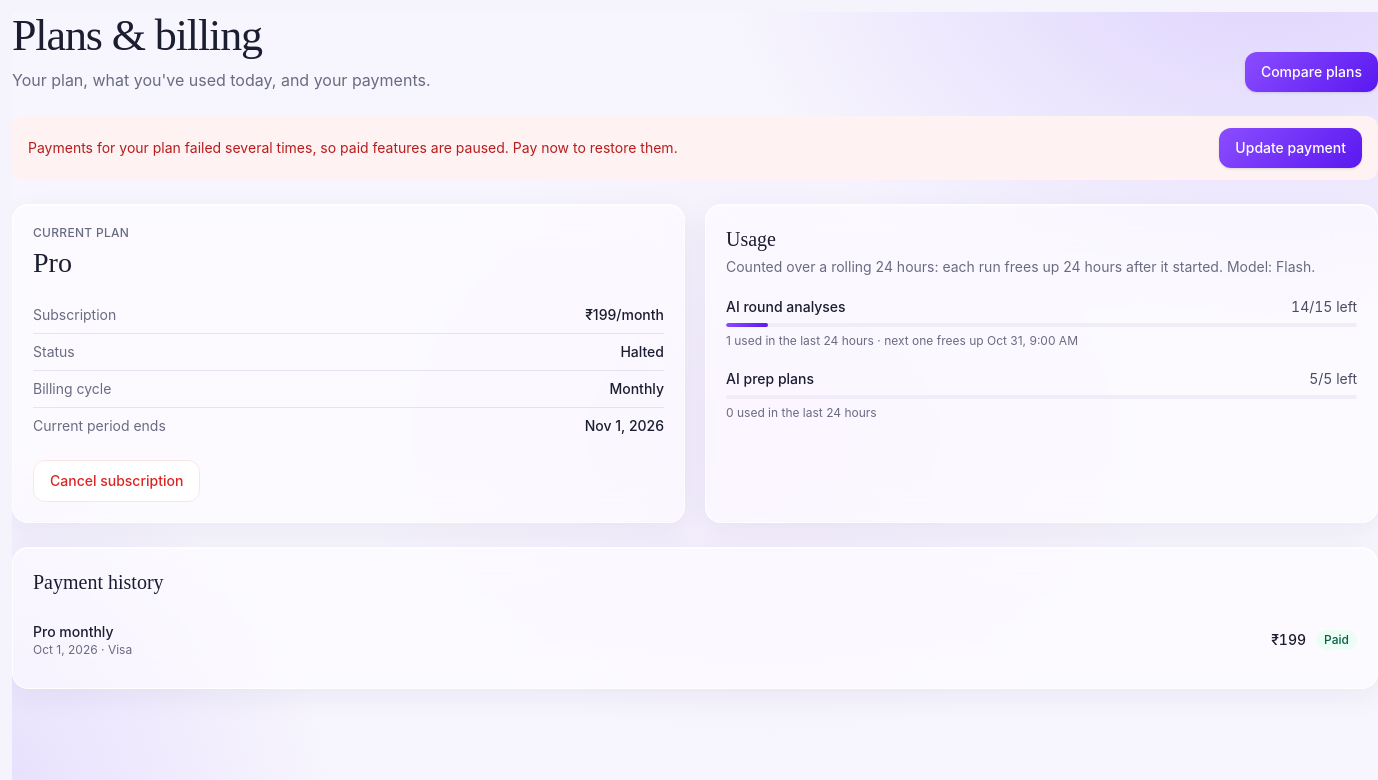
it: billing dashboard › offers a way to fix a failed payment
Expected: the message shows "paid features are paused", x1=28 y1=139 x2=678 y2=156
Click the button "Update payment": (1291, 148) x1=1219 y1=128 x2=1362 y2=168
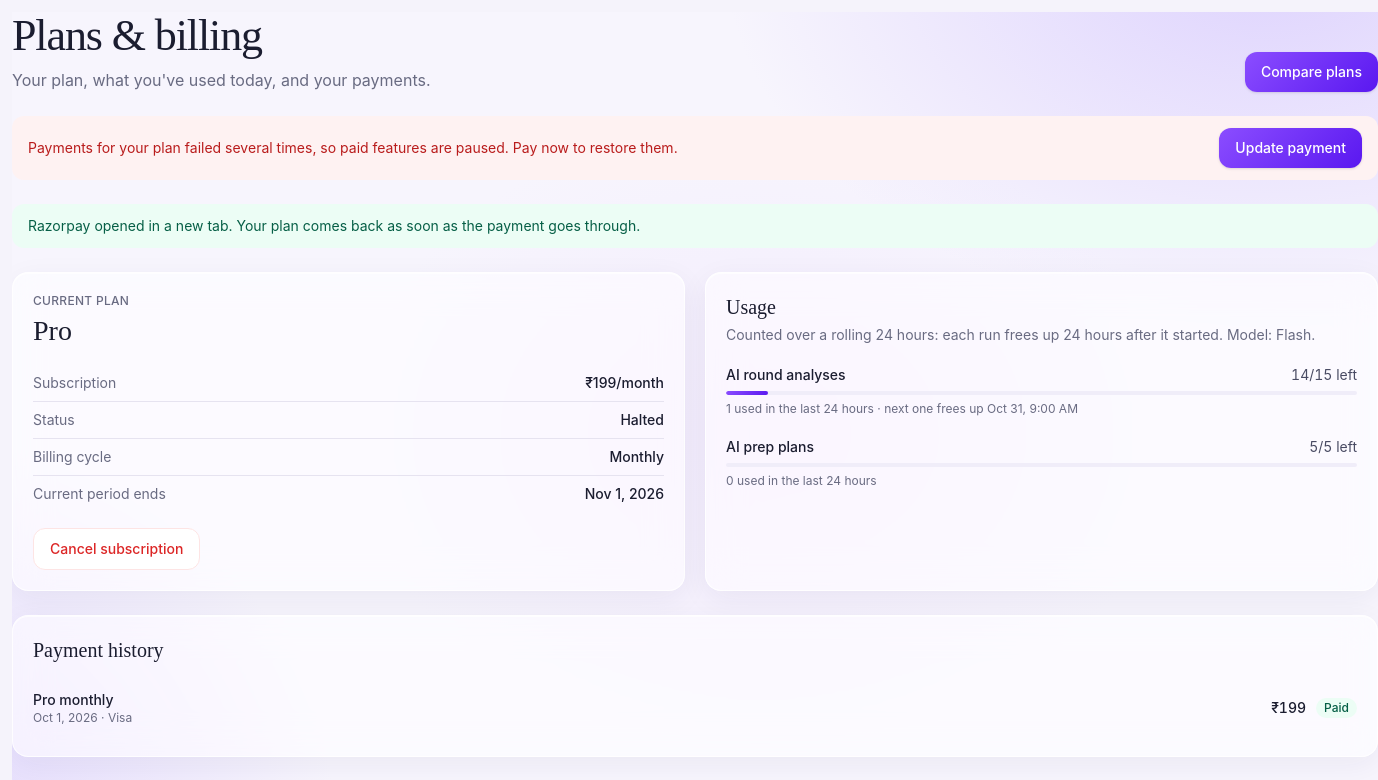
Expected: the text "Razorpay opened in a new tab" is shown, x1=28 y1=217 x2=640 y2=234
